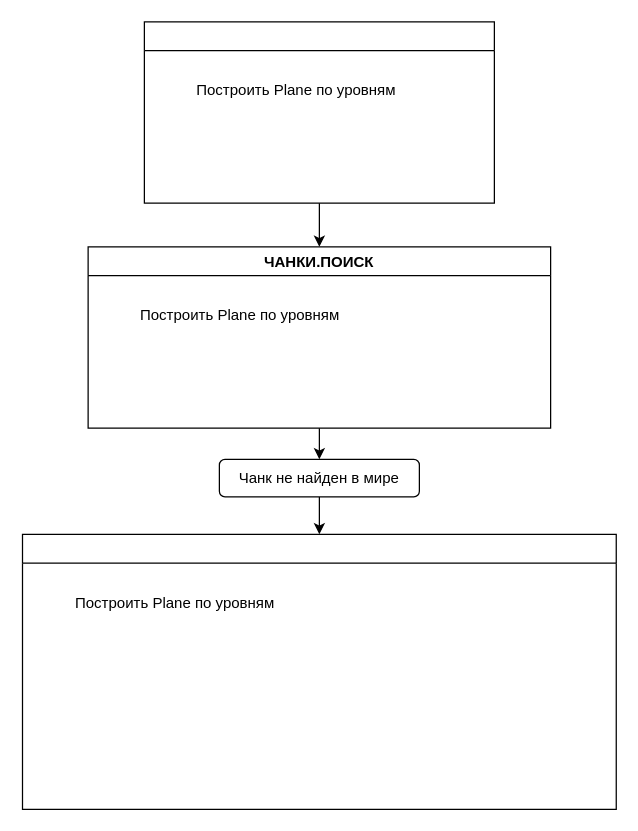
Some shapes in this 638 by 831 pixel diagram are drawn without their labels. Each missing label, with the box of its shape:
ЧАНКИ: (143, 21, 494, 203)
ЧАНКИ.НОВЫЙ: (21, 533, 616, 809)
